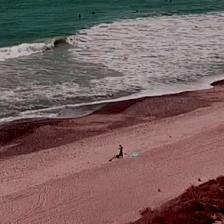surfer: (78, 14, 81, 18), (91, 11, 95, 14), (136, 9, 139, 12), (169, 0, 172, 2)
